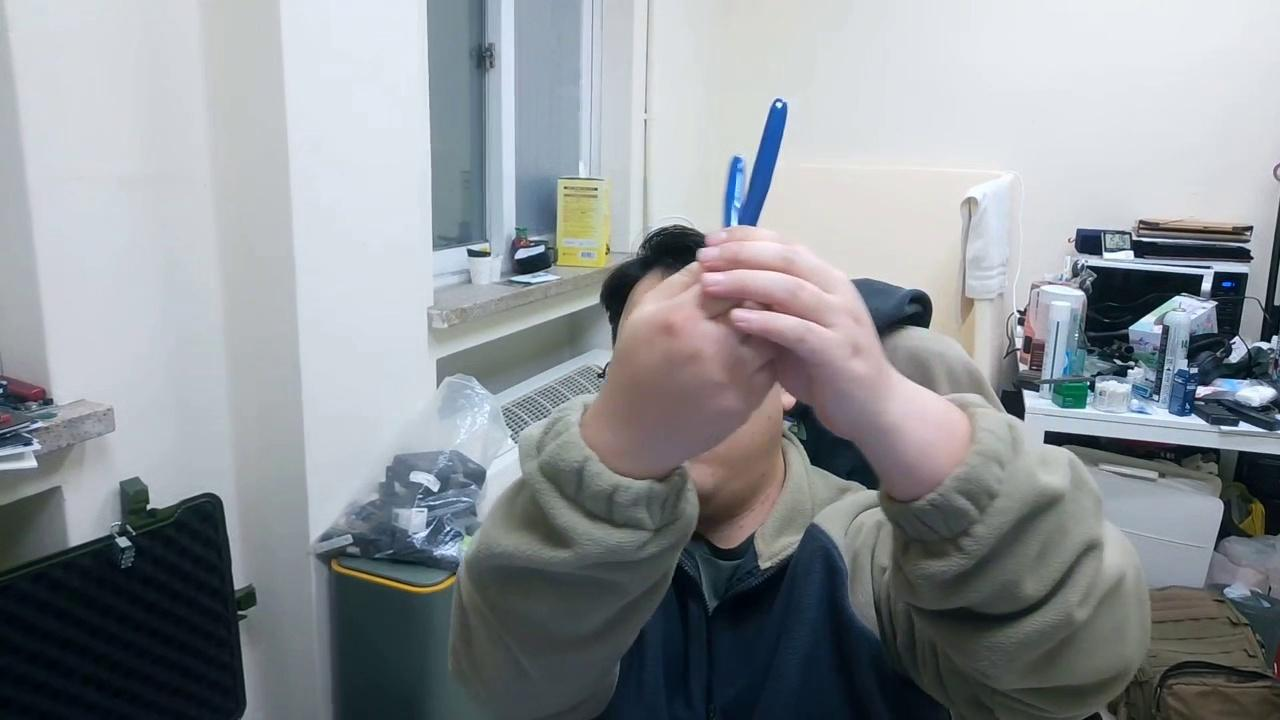blue_pliers: (721, 96, 790, 230)
